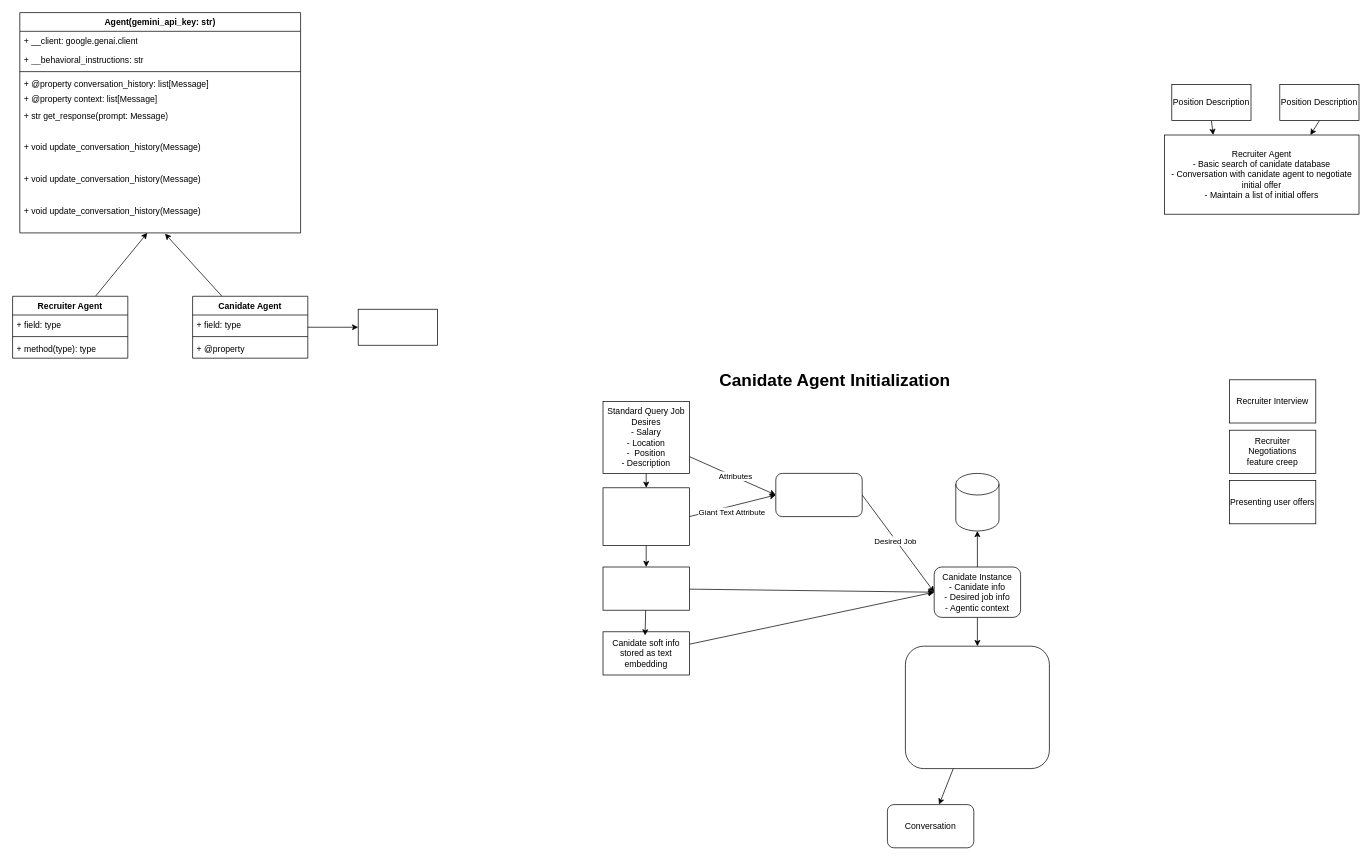
Image size: 1372x860. Some labels were removed from this diagram. The centre of each missing label's shape, as x and y in pixels:
"CandidateAgent" goes at [397,327].
"Canidate Agent Behavioral Instructions Conversation History" goes at [977,707].
"Canidate Database" goes at [977,502].
"Canidate Qualifications Work experience" goes at [645,588].
"Job Instance (Dream Job )" goes at [818,495].
"Semantic Job Desires - Company Culture - Responsibilities" goes at [645,516].
